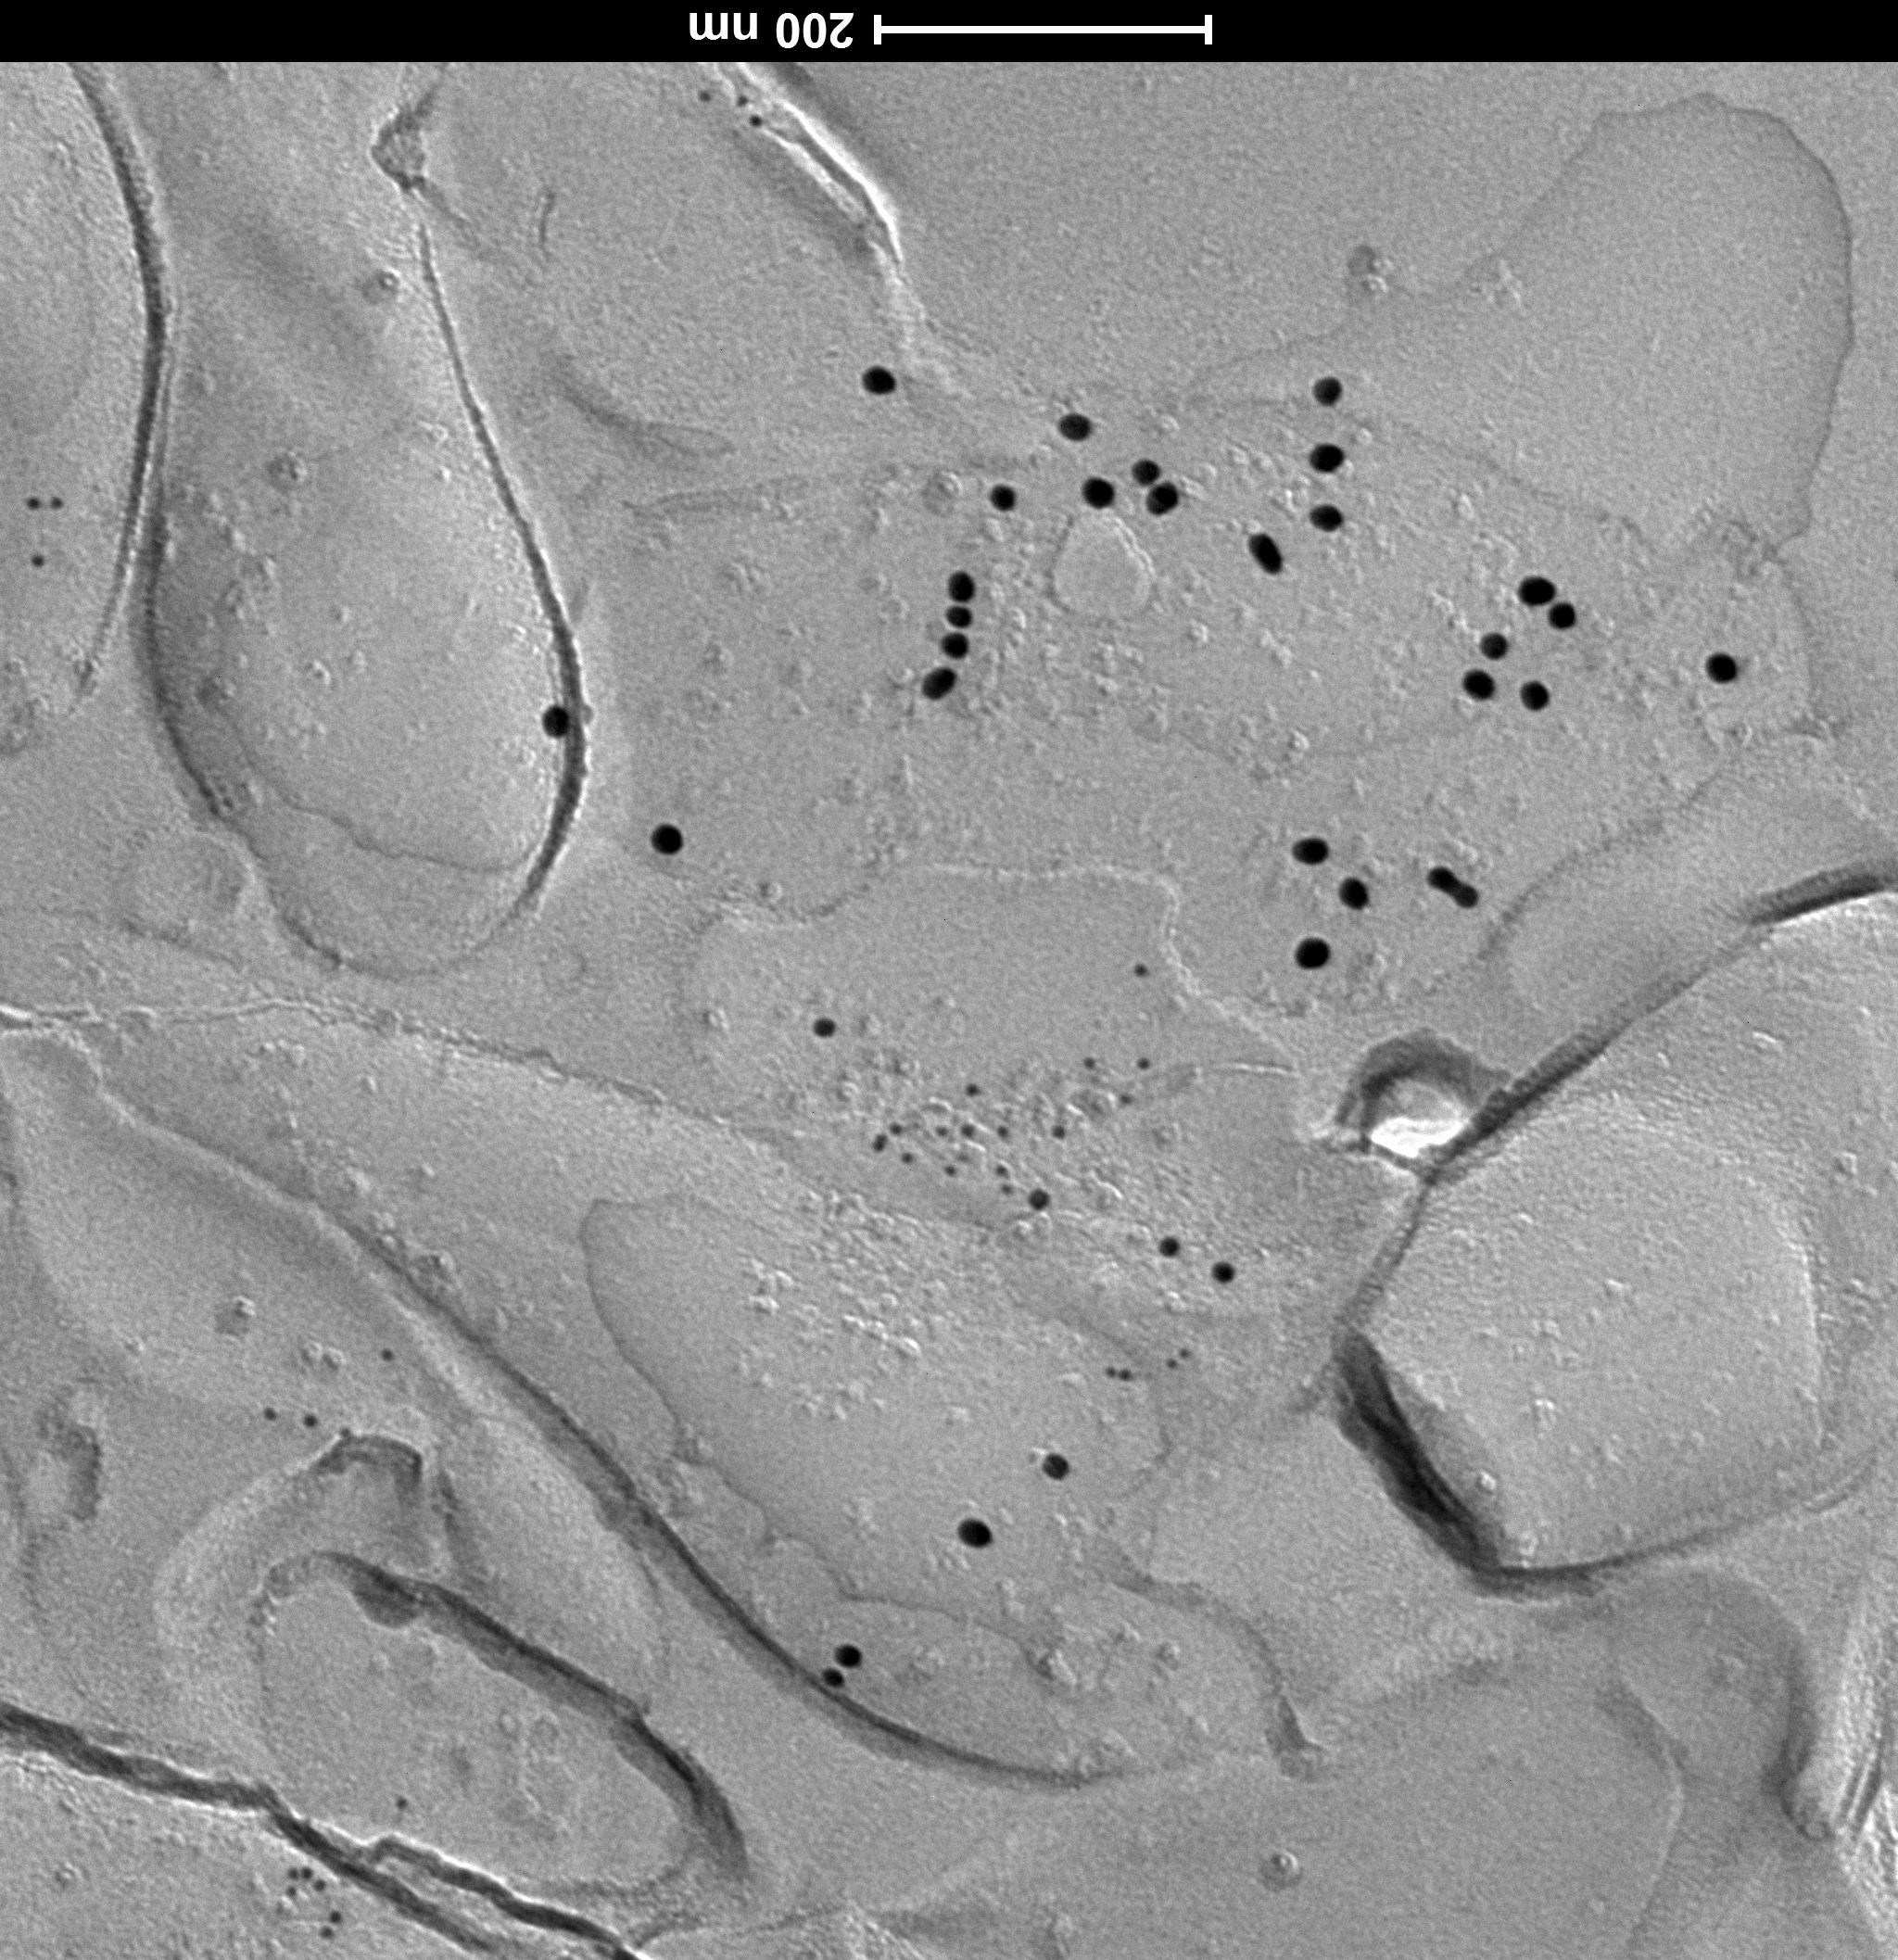6 nm Particle: (939, 1159, 964, 1181), (992, 1118, 1015, 1143), (1114, 1087, 1137, 1111), (959, 1120, 981, 1144), (927, 1122, 950, 1146), (1044, 1125, 1067, 1150), (1128, 1053, 1153, 1076), (950, 1150, 973, 1174), (1172, 1340, 1195, 1365), (990, 1159, 1013, 1181), (896, 1148, 918, 1171), (869, 1134, 892, 1157), (883, 1118, 906, 1141), (960, 1080, 983, 1102), (1078, 1052, 1100, 1074), (997, 1179, 1020, 1202)
